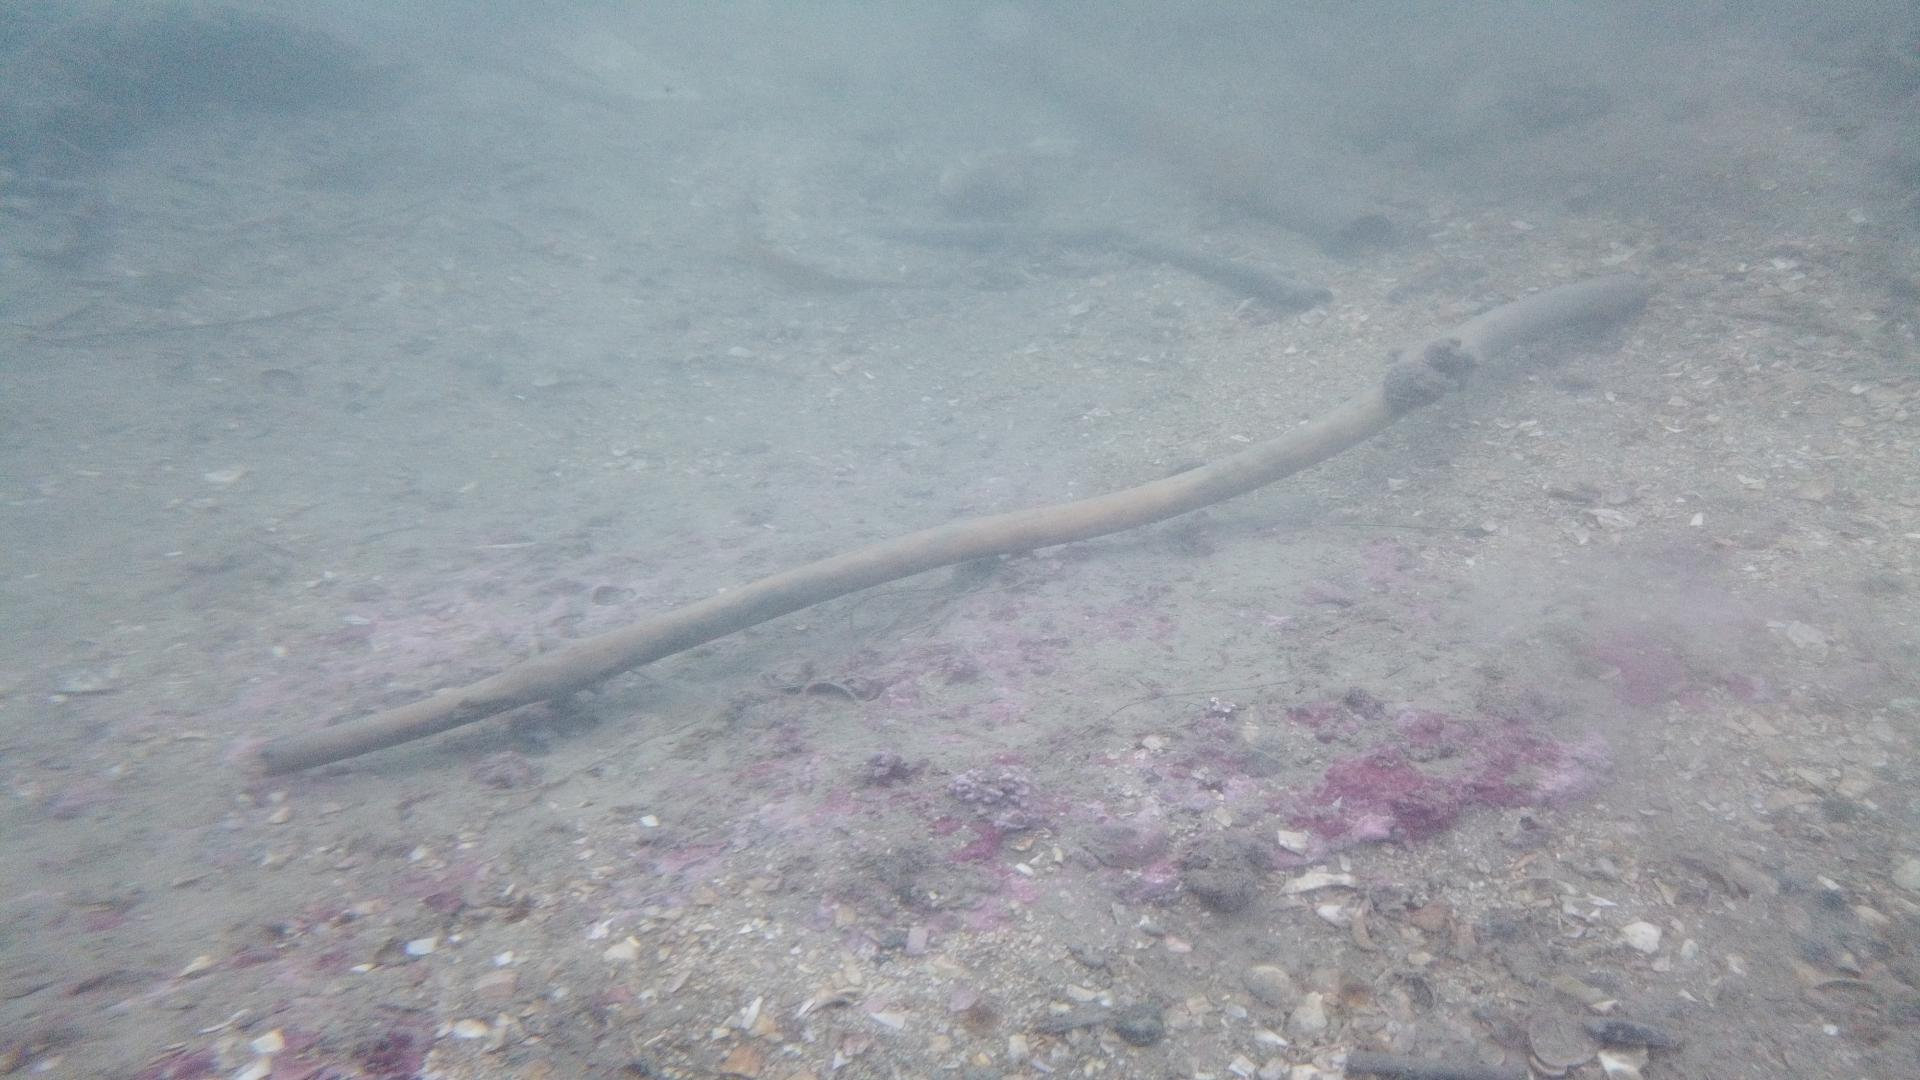wood: (255, 269, 1651, 775)
